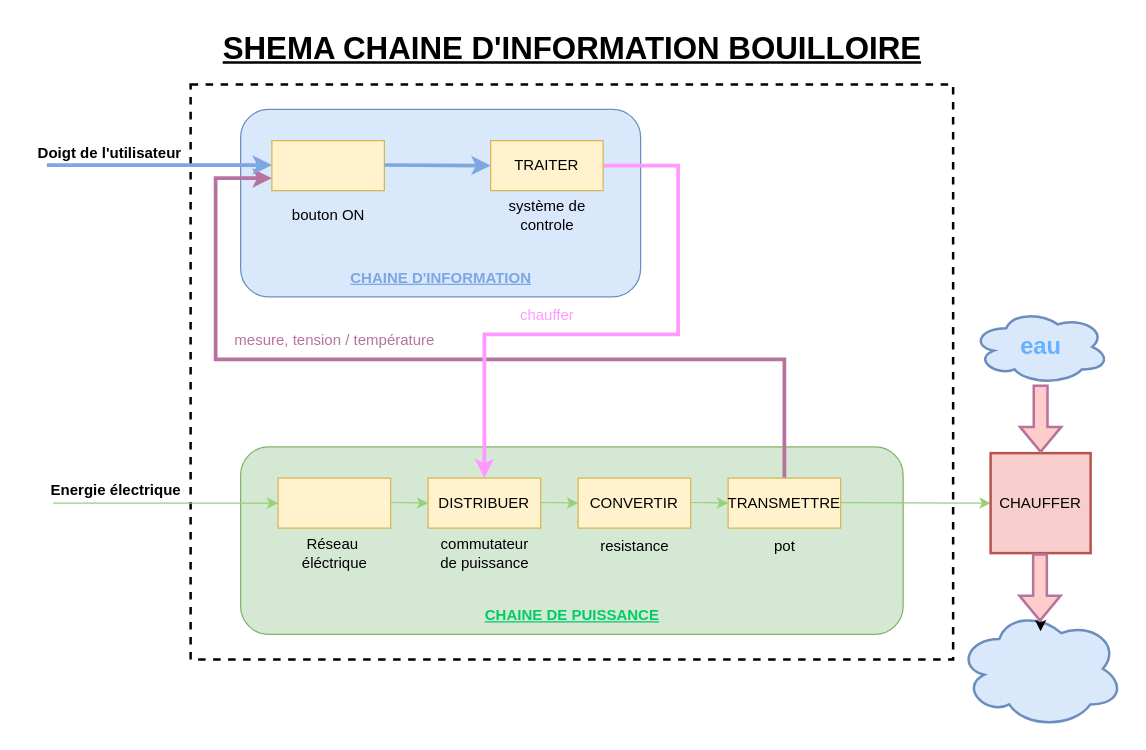
Some shapes in this 1146 by 750 pixel diagram are drawn without their labels. Each missing label, with the centre of its shape:
ACQUERIR: the point at 327,165
ALIMENTER: the point at 334,502
eau bouillante: the point at 1040,668
